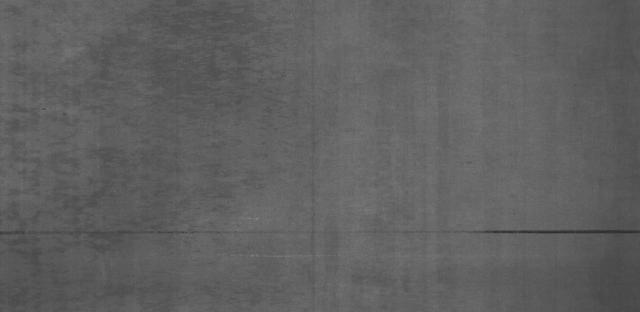crease: (12, 206, 629, 247)
